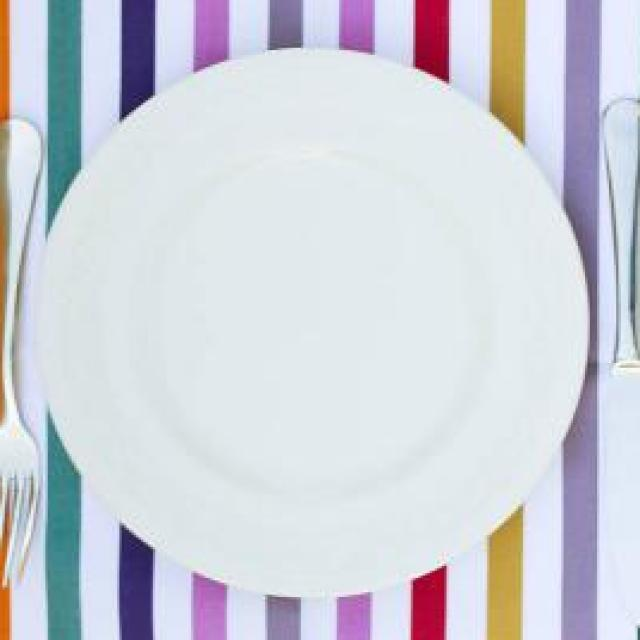knife: (587, 93, 640, 633)
